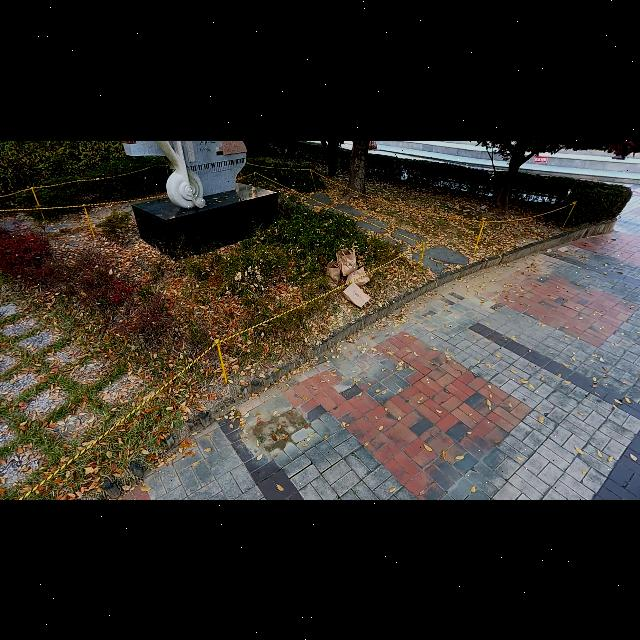trash: (342, 282, 372, 306), (336, 245, 356, 275), (346, 265, 372, 287), (327, 258, 341, 284)
